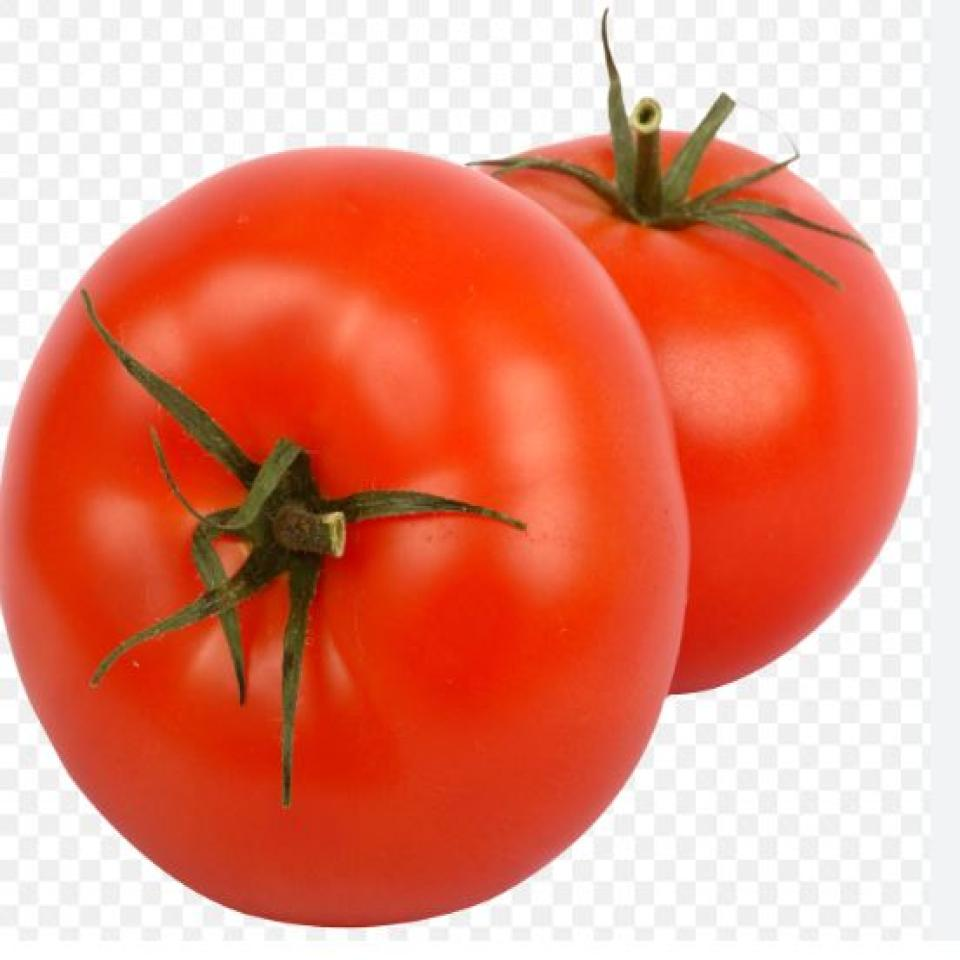Healthy: (4, 137, 653, 921), (490, 108, 914, 735)
